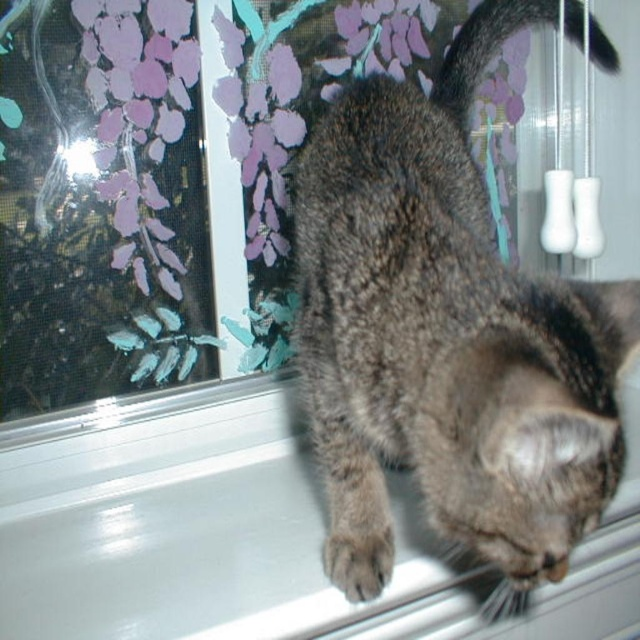Lynx: (290, 0, 639, 633)
